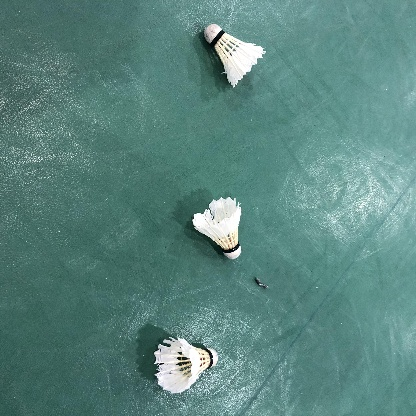ball_single: (204, 24, 266, 87), (154, 337, 218, 393), (192, 197, 242, 259)
